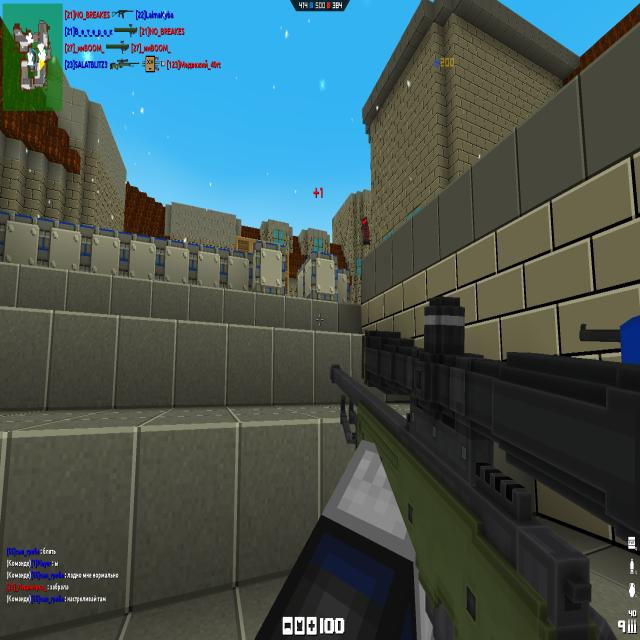player: (361, 216, 371, 246)
